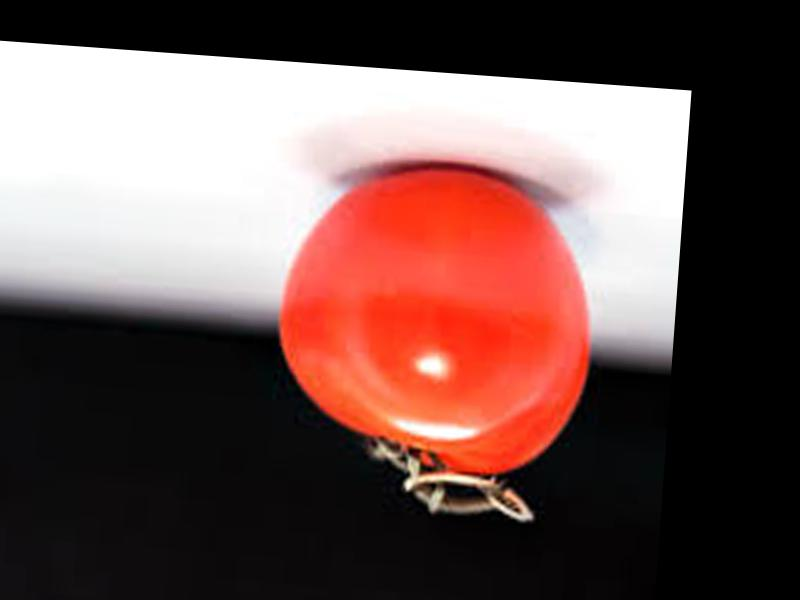Tomato: (267, 156, 602, 483)
